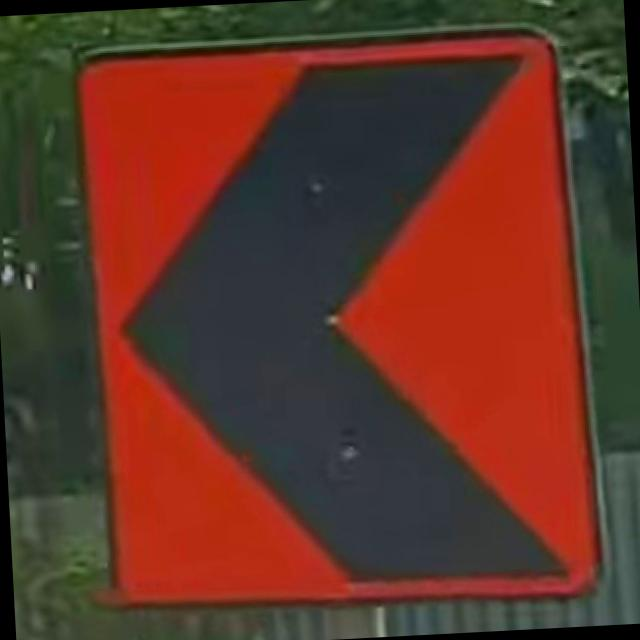curveleft_sign: (63, 16, 609, 624)
